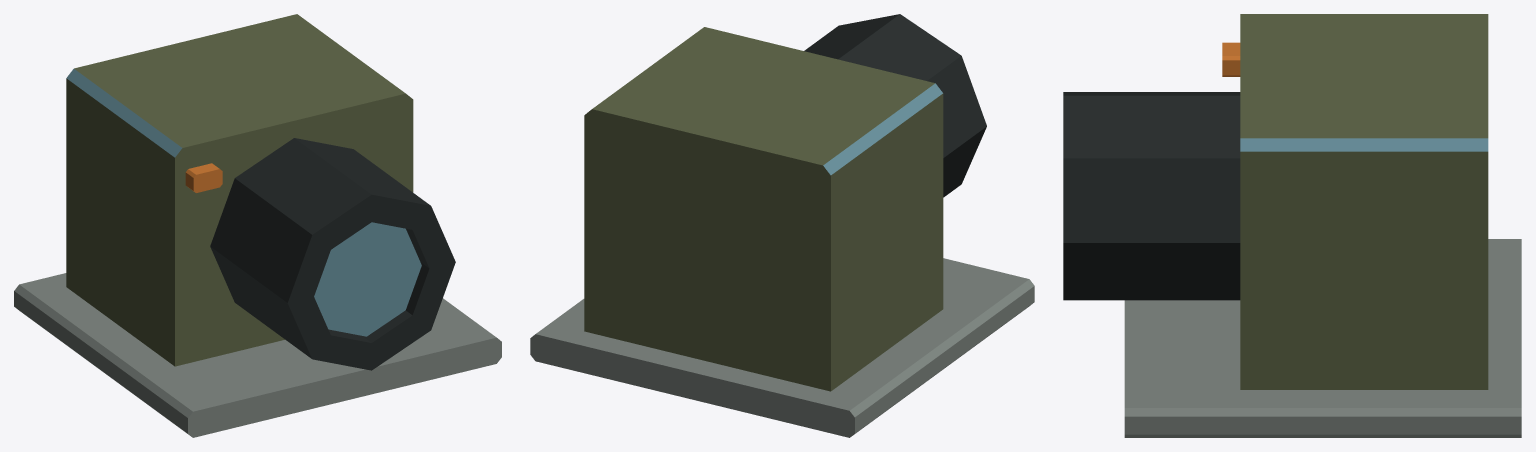
The model's file is OpticalComponents.gltf.
3 views of the same model, side by side, from view 1: azimuth 30°, elevation 25°; view 2: azimuth 150°, elevation 25°; view 3: azimuth 270°, elevation 25° (orthographic). The views are drawn at different scales.
Visible parts, largest first — view 1: OpticalComponents; view 2: OpticalComponents; view 3: OpticalComponents.
Boxes of the visible parts, x1,y1,x2,y2 form: OpticalComponents: (14, 14, 501, 437); OpticalComponents: (530, 14, 1034, 437); OpticalComponents: (1063, 14, 1521, 437).
Bounding box in the file's own units: 0.25 × 0.185 × 0.277.
